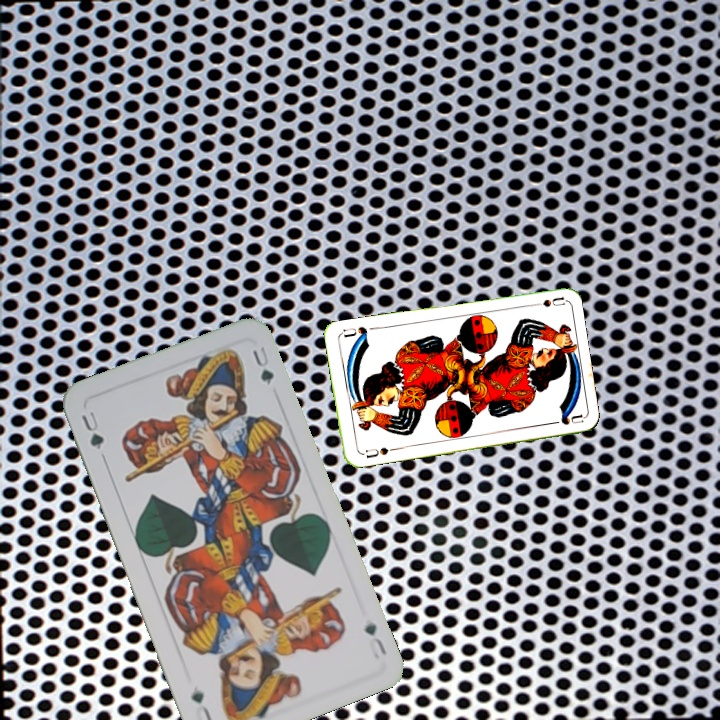GU: (77, 407, 107, 453), (360, 618, 389, 658)
SU: (525, 293, 566, 310), (362, 443, 391, 461)
